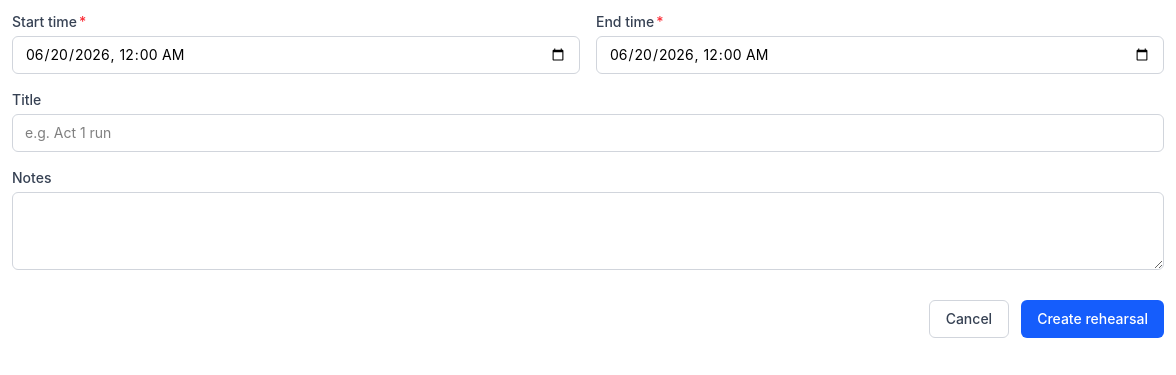
Test case: RehearsalForm — time validation › shows an error when end time is manually set before start time
Replace the text in the field below "Start time" with "2026-06-20T19:00" at (296, 55), box [12, 36, 580, 74]
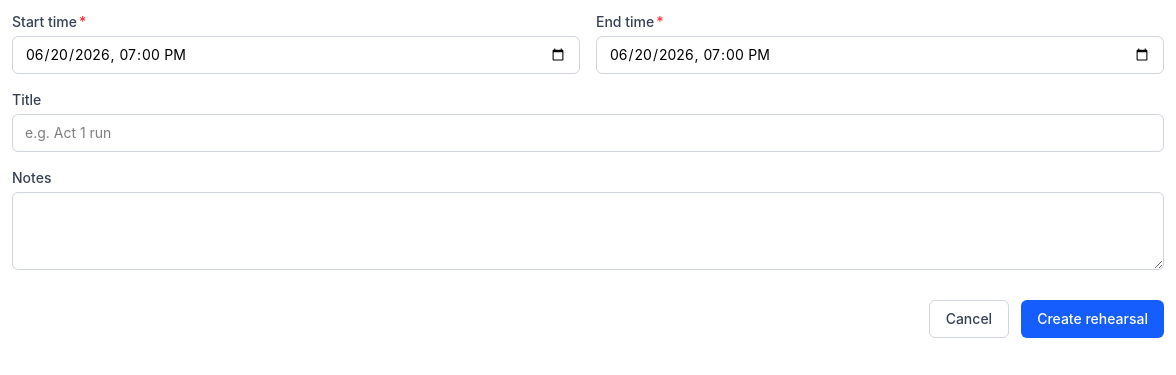
Replace the text in the field below "End time" with "2026-06-20T18:00" at (880, 55), box [596, 36, 1164, 74]
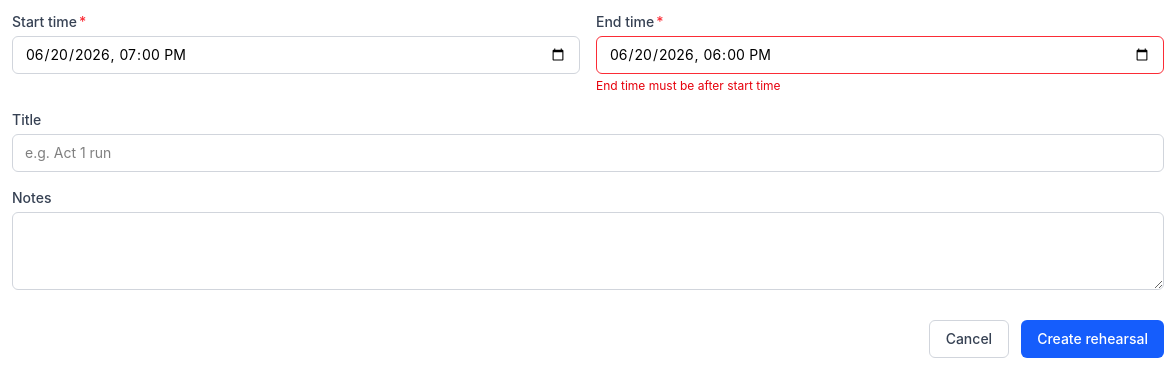
Check: the text "End time must be after start time" is shown, box [596, 78, 781, 93]
